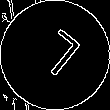L_SW: (27, 26, 83, 84)
